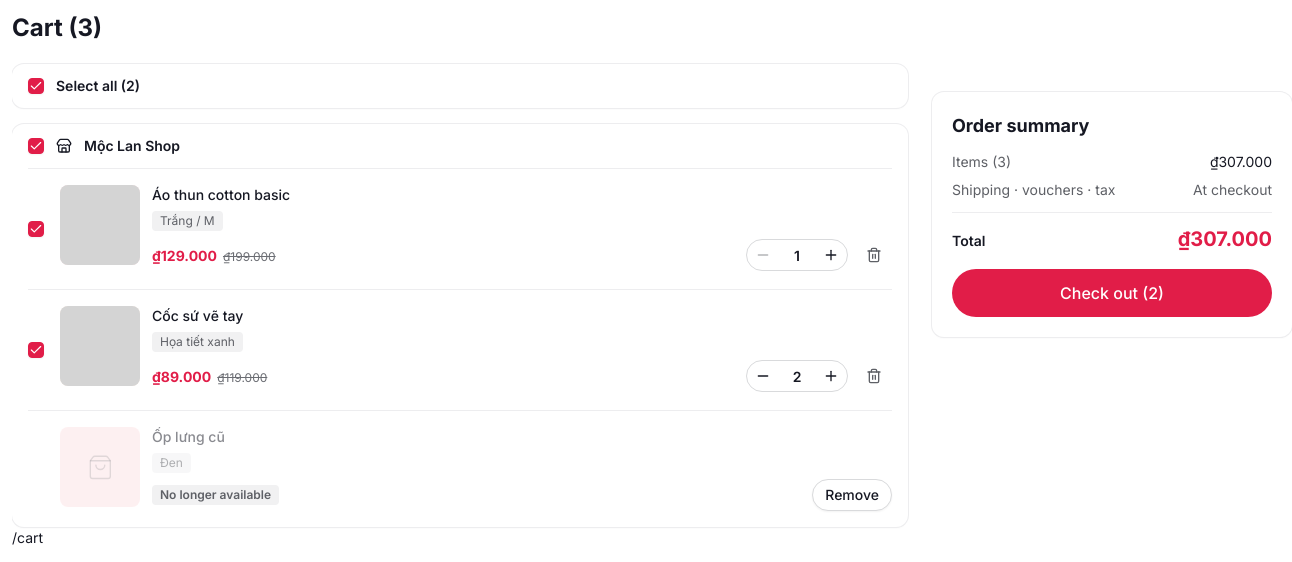
it: CartPage › stepper › stops at the SKU stock
The image size is (1292, 562).
Expected: the heading "Cart (3)" is shown, 12,13 -> 102,42
What coordinates should you click on to do the following:
click the button named "Increase quantity" in the row of "₫199.000"
I would click on:
 (831, 255)
Its box is 815,239 -> 847,271.
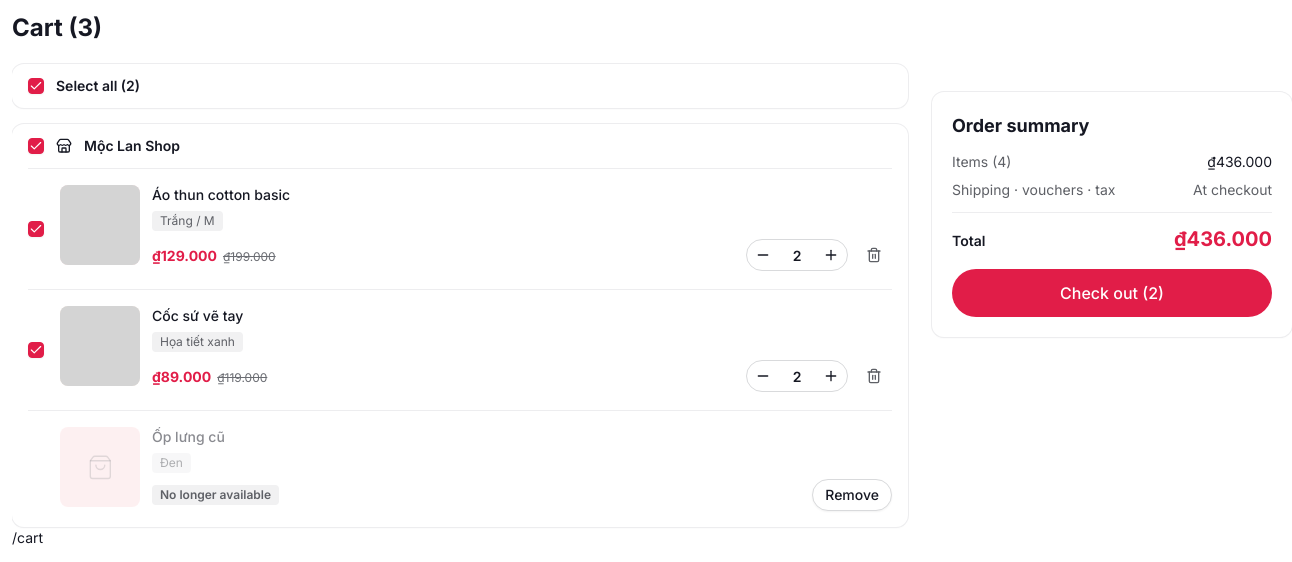
What coordinates should you click on to do the following:
click the button named "Increase quantity" in the row of "₫199.000"
I would click on:
 (831, 255)
Its box is 815,239 -> 847,271.
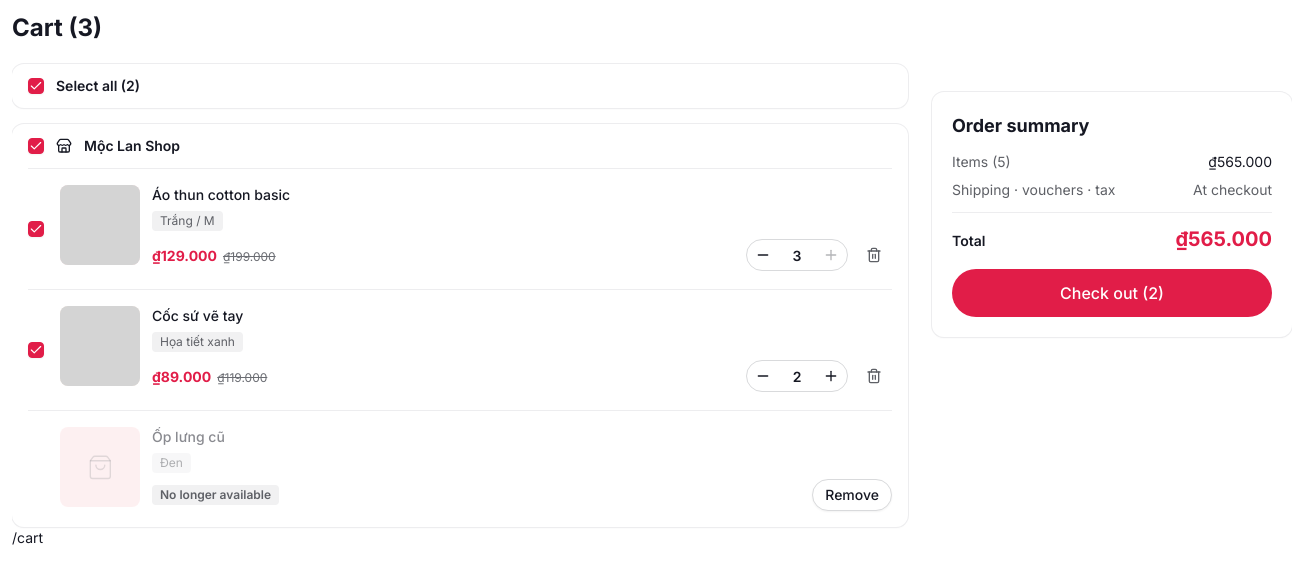
Result: the button named "Increase quantity" in the row of "₫199.000" is disabled at 815,239 -> 847,271
